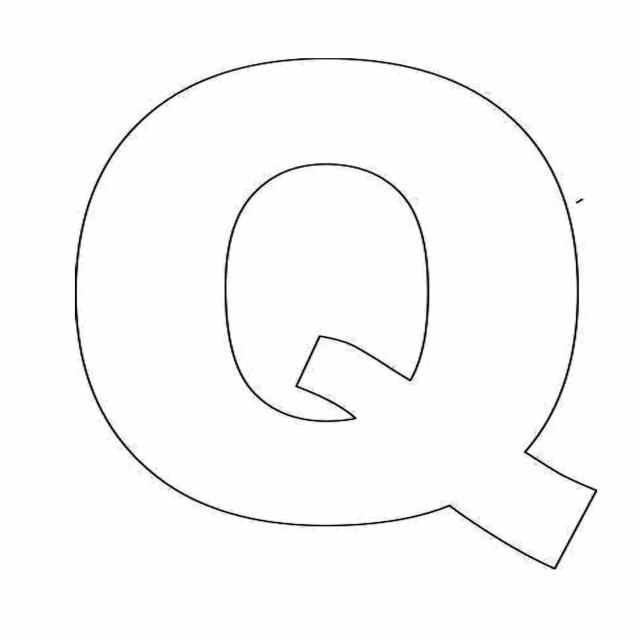Q: (68, 16, 625, 590)
